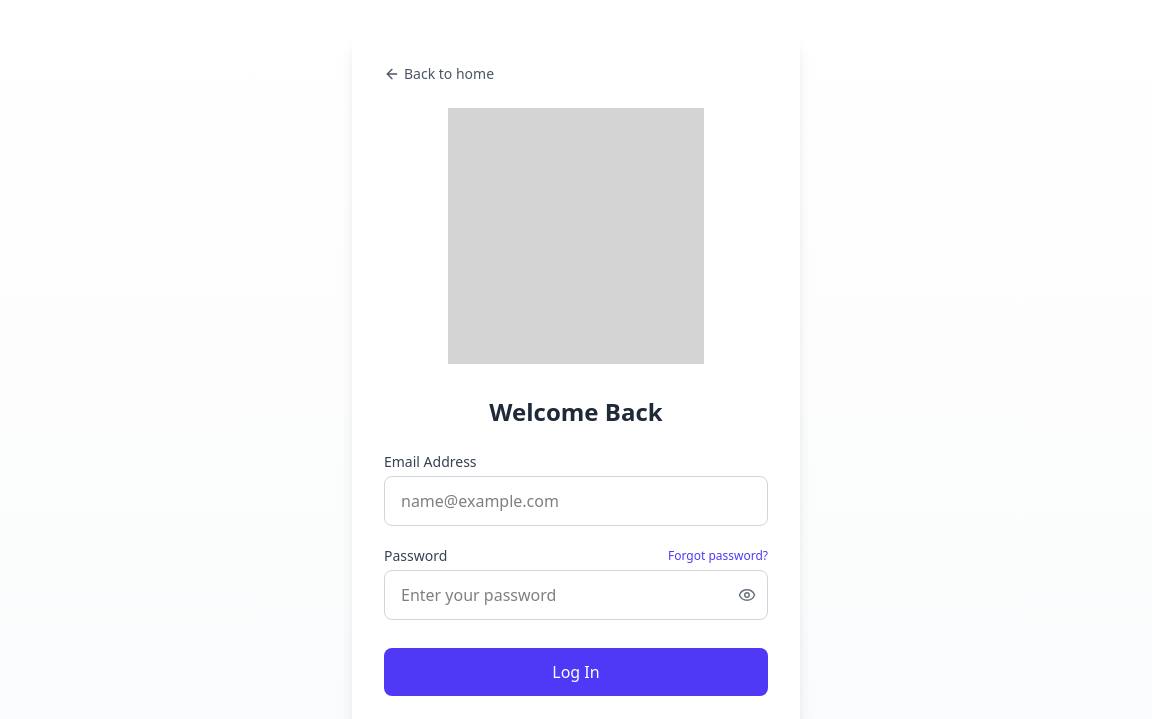
it: Login Component › submits the form with valid credentials and redirects to dashboard
In the field labelled "Email Address": (576, 501) [384, 476, 768, 526], type "test@example.com"
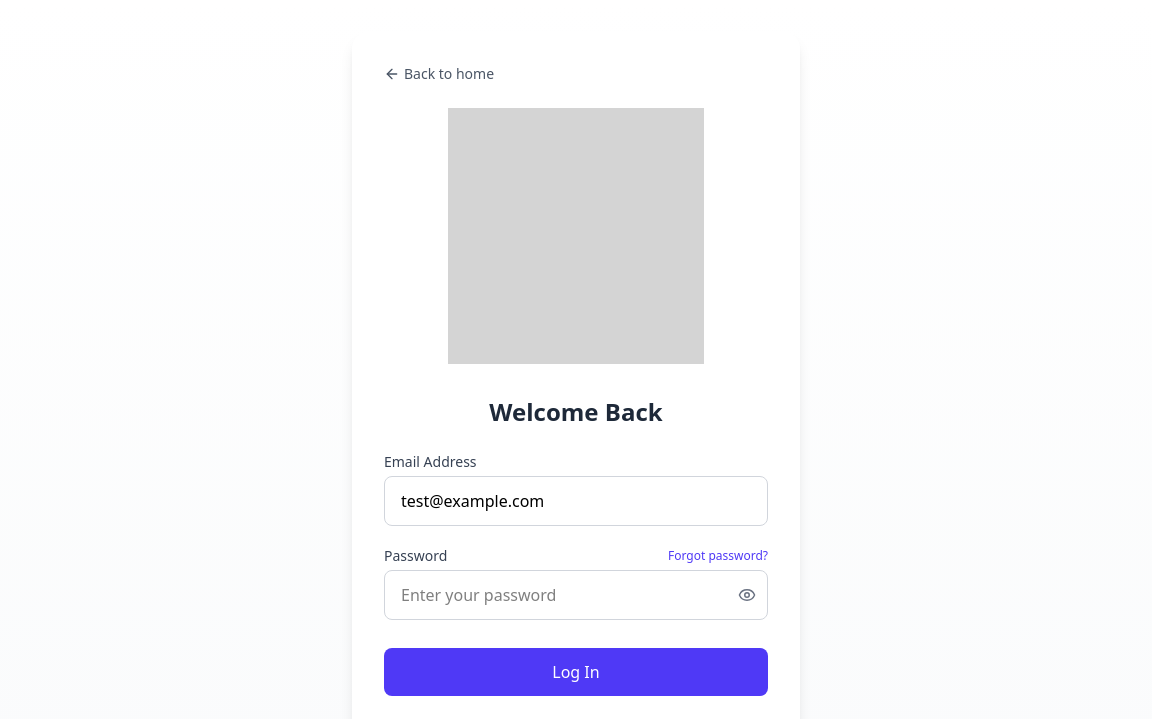
In the password field labelled "Password": (576, 595) [384, 570, 768, 620], type "password123"
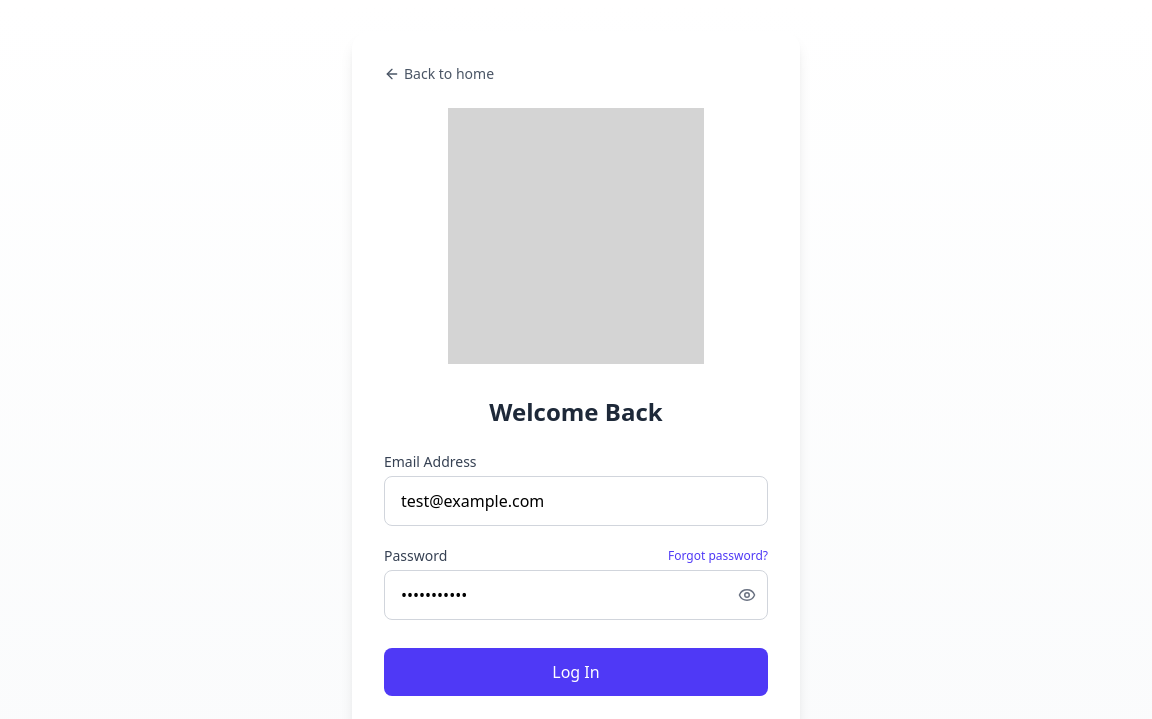
Click the button "Log In": (576, 672) [384, 648, 768, 696]
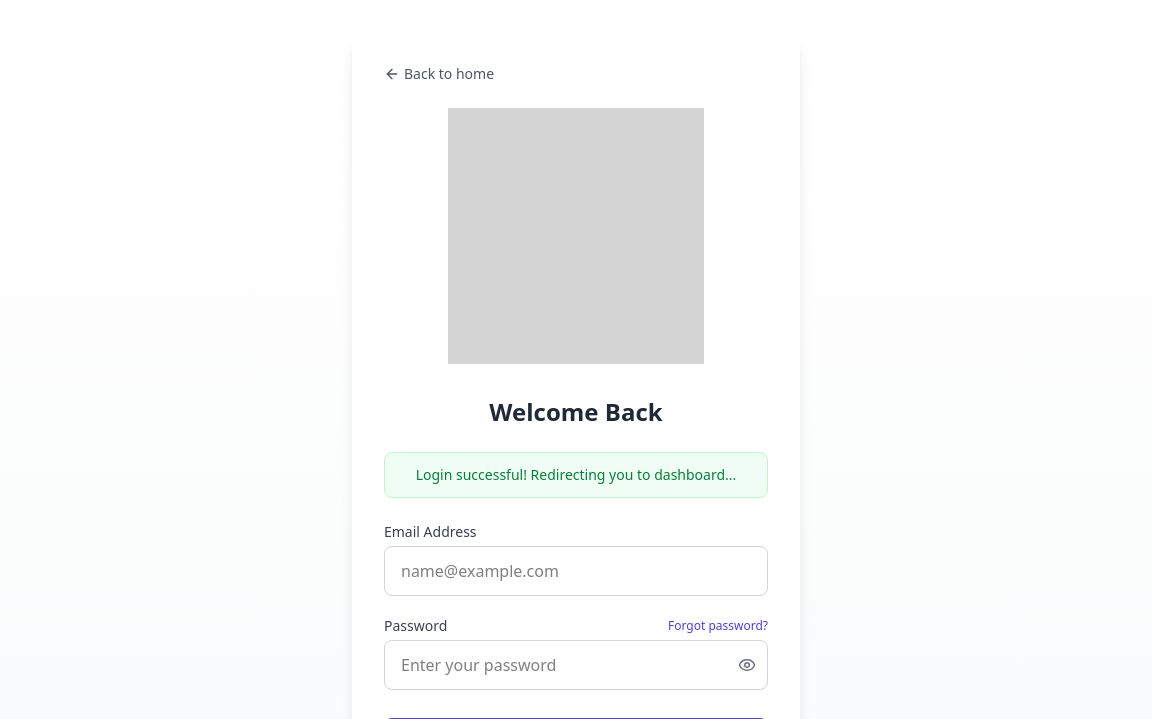
Expected: the text "Login successful! Redirecting you to dashboard..." is shown, [384, 452, 768, 498]
